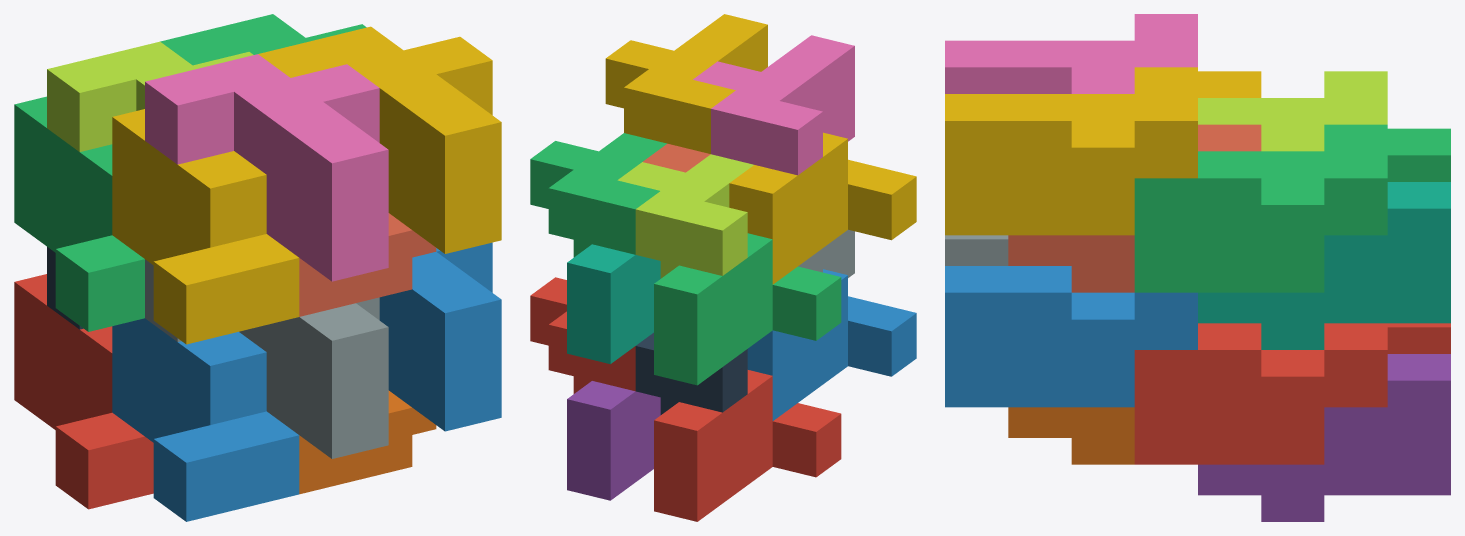
File: tiling.obj
The picture shows the model from 3 angles, left to right: view 1: azimuth 30°, elevation 25°; view 2: azimuth 150°, elevation 25°; view 3: azimuth 270°, elevation 25°; orthographic projection. The views are drawn at different scales.
Parts seen in each view (by area): view 1: copy_2_domain_4, copy_1_domain_4, copy_1_domain_2, copy_2_domain_8, copy_1_domain_1, copy_1_domain_3, copy_2_domain_6, copy_2_domain_2, copy_2_domain_3, copy_1_domain_6, copy_1_domain_8, copy_2_domain_7 (+1 smaller); view 2: copy_1_domain_3, copy_1_domain_1, copy_2_domain_4, copy_1_domain_4, copy_2_domain_8, copy_2_domain_3, copy_2_domain_7, copy_1_domain_2, copy_1_domain_5, copy_1_domain_7, copy_2_domain_5, copy_2_domain_1 (+2 smaller); view 3: copy_2_domain_8, copy_2_domain_7, copy_2_domain_5, copy_2_domain_6, copy_1_domain_5, copy_1_domain_7, copy_2_domain_4, copy_2_domain_3, copy_1_domain_8, copy_1_domain_6, copy_1_domain_3, copy_1_domain_1 (+2 smaller).
Part boxes in pixels (x1=…): copy_2_domain_4: x1=145, y1=54, x2=388, y2=281; copy_1_domain_4: x1=112, y1=109, x2=299, y2=344; copy_1_domain_2: x1=112, y1=318, x2=299, y2=521; copy_2_domain_8: x1=258, y1=26, x2=501, y2=253; copy_1_domain_1: x1=14, y1=274, x2=153, y2=509; copy_1_domain_3: x1=14, y1=96, x2=144, y2=331; copy_2_domain_6: x1=379, y1=242, x2=501, y2=431; copy_2_domain_2: x1=145, y1=259, x2=388, y2=458; copy_2_domain_3: x1=47, y1=41, x2=253, y2=151; copy_1_domain_6: x1=299, y1=390, x2=436, y2=494; copy_1_domain_8: x1=299, y1=213, x2=436, y2=316; copy_2_domain_7: x1=160, y1=14, x2=366, y2=65; copy_1_domain_3: x1=654, y1=233, x2=841, y2=385; copy_1_domain_1: x1=654, y1=370, x2=841, y2=521; copy_2_domain_4: x1=693, y1=35, x2=854, y2=175; copy_1_domain_4: x1=729, y1=132, x2=916, y2=284; copy_2_domain_8: x1=605, y1=14, x2=767, y2=153; copy_2_domain_3: x1=617, y1=154, x2=753, y2=278; copy_2_domain_7: x1=530, y1=133, x2=666, y2=257; copy_1_domain_2: x1=747, y1=269, x2=916, y2=420; copy_1_domain_5: x1=567, y1=381, x2=660, y2=500; copy_1_domain_7: x1=567, y1=244, x2=660, y2=364; copy_2_domain_5: x1=530, y1=277, x2=635, y2=393; copy_2_domain_1: x1=635, y1=332, x2=747, y2=414; copy_2_domain_8: x1=945, y1=67, x2=1197, y2=235; copy_2_domain_7: x1=1134, y1=124, x2=1387, y2=292; copy_2_domain_5: x1=1134, y1=323, x2=1387, y2=464; copy_2_domain_6: x1=945, y1=266, x2=1197, y2=407; copy_1_domain_5: x1=1198, y1=354, x2=1450, y2=521; copy_1_domain_7: x1=1198, y1=182, x2=1450, y2=349; copy_2_domain_4: x1=945, y1=14, x2=1197, y2=93; copy_2_domain_3: x1=1198, y1=71, x2=1387, y2=151; copy_1_domain_8: x1=1008, y1=124, x2=1261, y2=292; copy_1_domain_6: x1=1008, y1=407, x2=1134, y2=464; copy_1_domain_3: x1=1387, y1=128, x2=1450, y2=181; copy_1_domain_1: x1=1387, y1=323, x2=1450, y2=353.
Bounding box in the file's own units: 6 × 7 × 8.
